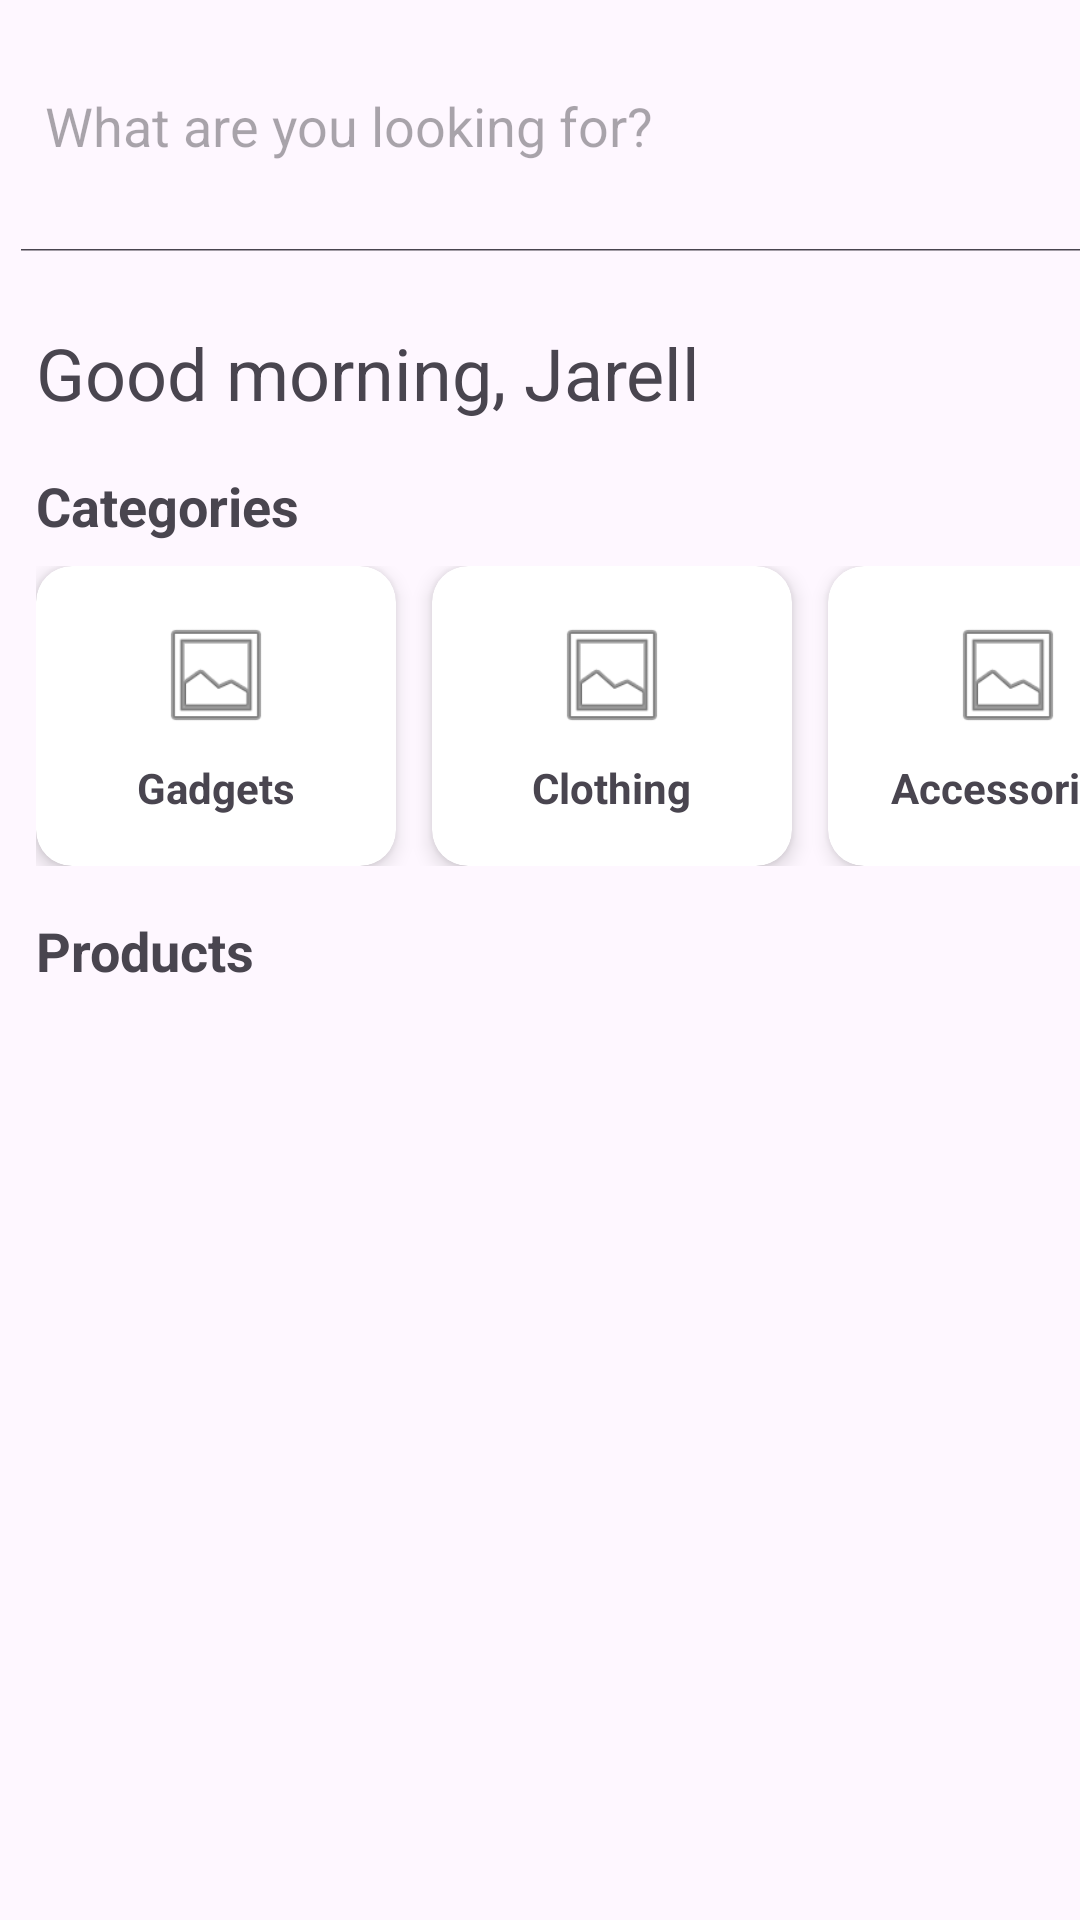

Icons on this 1080*1920 Android screen, each with its box as (x1, y1, x2, y2):
gallery: (171, 630, 261, 720), (567, 630, 657, 720), (963, 630, 1053, 720)
